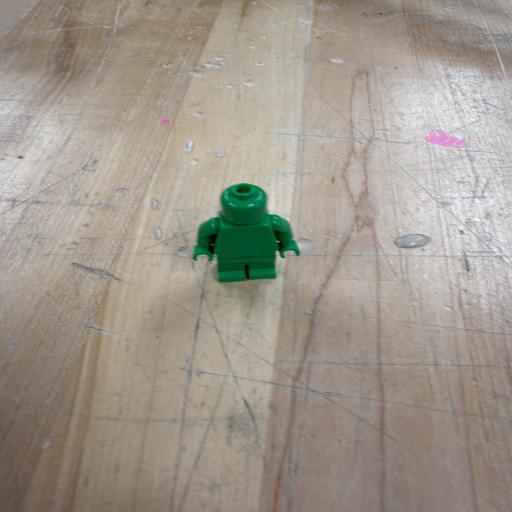Green-Lego: (193, 183, 300, 282)
